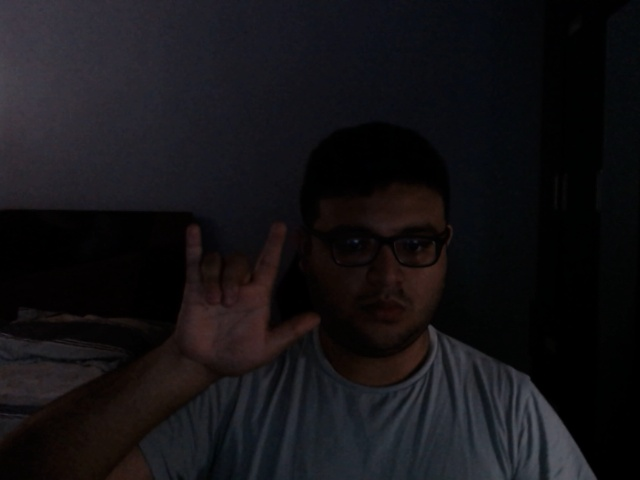I love you: (168, 217, 324, 384)
